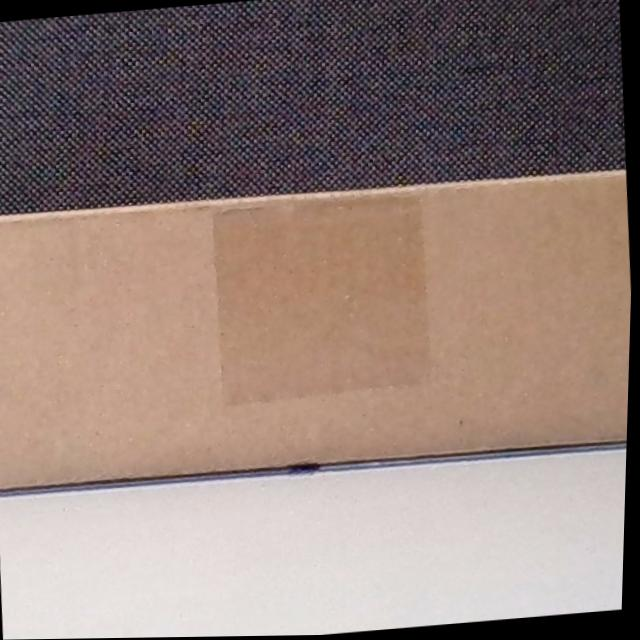box: (0, 166, 636, 502)
